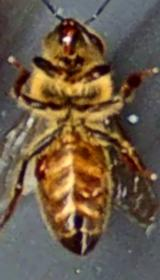varroa_mite: (29, 148, 51, 179)
